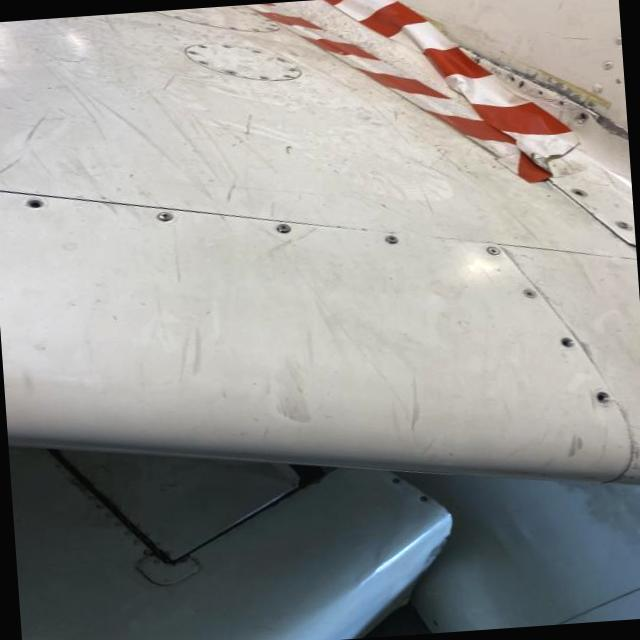Missing Fastener: (23, 193, 47, 208), (597, 389, 613, 404), (572, 186, 590, 196), (562, 335, 576, 346)
